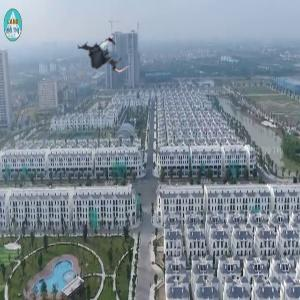drone: (77, 27, 134, 84)
